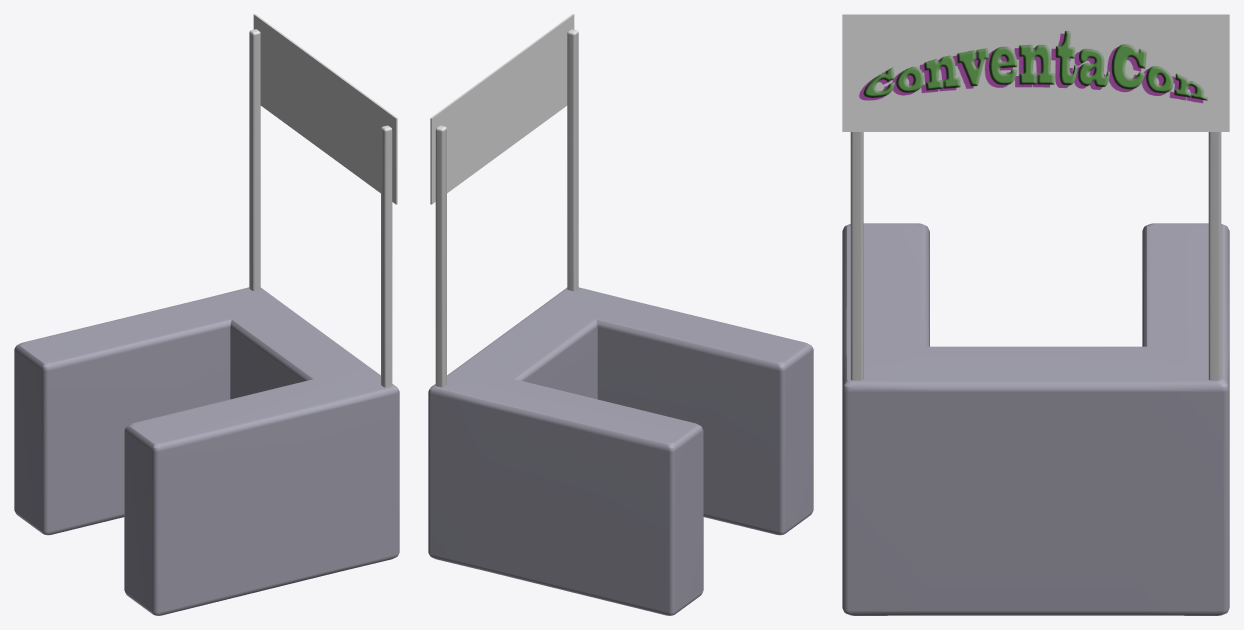
File: M_1_Booth.fbx
The picture shows the model from 3 angles, left to right: view 1: azimuth 30°, elevation 25°; view 2: azimuth 150°, elevation 25°; view 3: azimuth 270°, elevation 25°; orthographic projection. The views are drawn at different scales.
Visible parts, largest first — view 1: pCube5; view 2: pCube5; view 3: pCube5.
Boxes of the visible parts, left/top/right/bottom form: pCube5: left=14, top=14, right=399, bottom=615; pCube5: left=428, top=14, right=813, bottom=615; pCube5: left=842, top=14, right=1229, bottom=615.
Size of the model in its own units: 150 by 257 by 150.
Materials: 4 (1 with a texture image).
